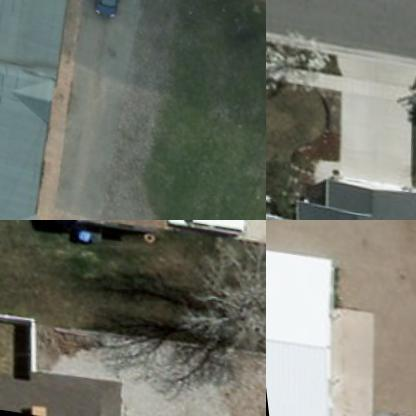car: (154, 220, 241, 238), (86, 0, 127, 15)
